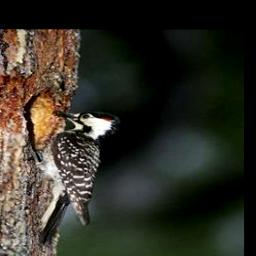Woodpecker: (22, 108, 127, 246)
